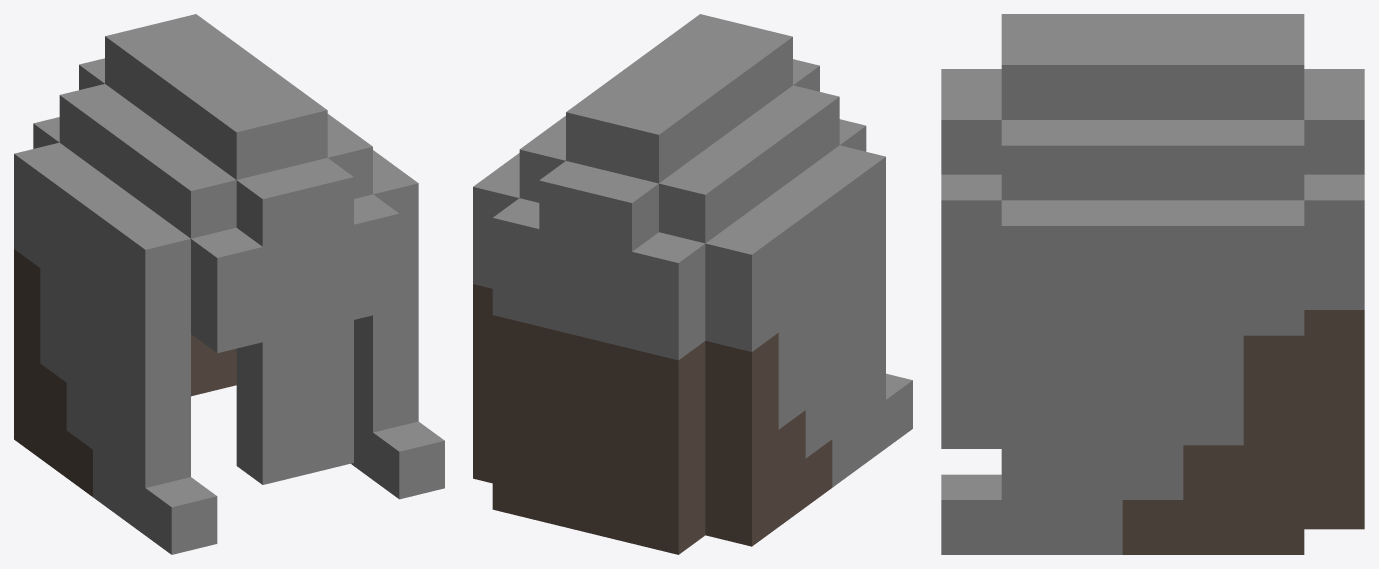
Rendered from char-90-helm_hvy_1d_du.obj.
3 views of the same model, side by side, from view 1: azimuth 30°, elevation 25°; view 2: azimuth 150°, elevation 25°; view 3: azimuth 270°, elevation 25° (orthographic). The views are drawn at different scales.
Visible parts, largest first — view 1: helm_hvy_1d_du; view 2: helm_hvy_1d_du; view 3: helm_hvy_1d_du.
Boxes of the visible parts, bbox=[...] form: helm_hvy_1d_du: bbox=[14, 14, 444, 554]; helm_hvy_1d_du: bbox=[473, 14, 912, 554]; helm_hvy_1d_du: bbox=[941, 14, 1364, 554].
Size of the model in its own units: 0.6 by 0.8 by 0.7.
Materials: 1 (1 with a texture image).
